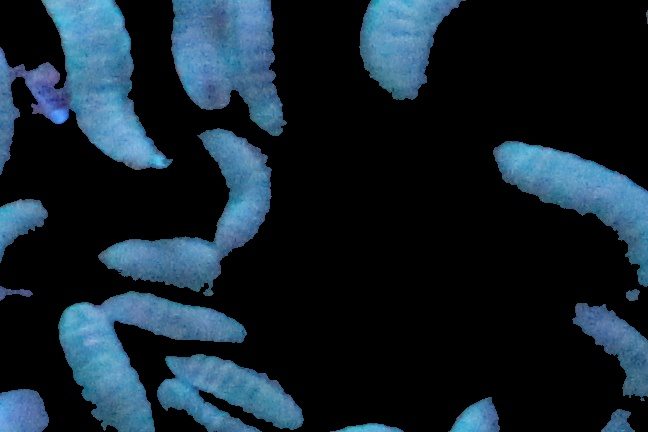larvae: (29, 1, 172, 172), (492, 139, 648, 286), (55, 302, 155, 432), (359, 1, 459, 104), (167, 353, 304, 428), (194, 130, 272, 248), (224, 1, 288, 132), (571, 297, 648, 401), (107, 291, 247, 342), (101, 231, 222, 288), (174, 1, 229, 110), (155, 379, 259, 432), (1, 197, 45, 303)
